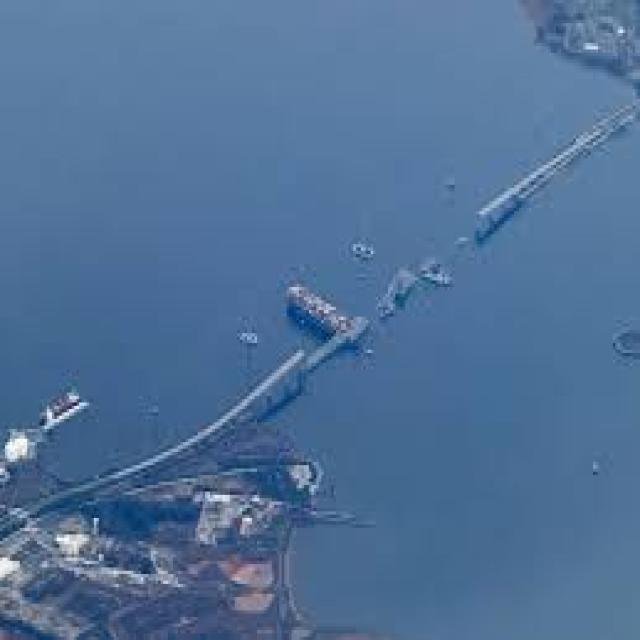bridge collapse: (67, 128, 640, 456)
